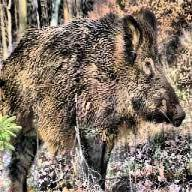boar: (0, 7, 186, 191)
